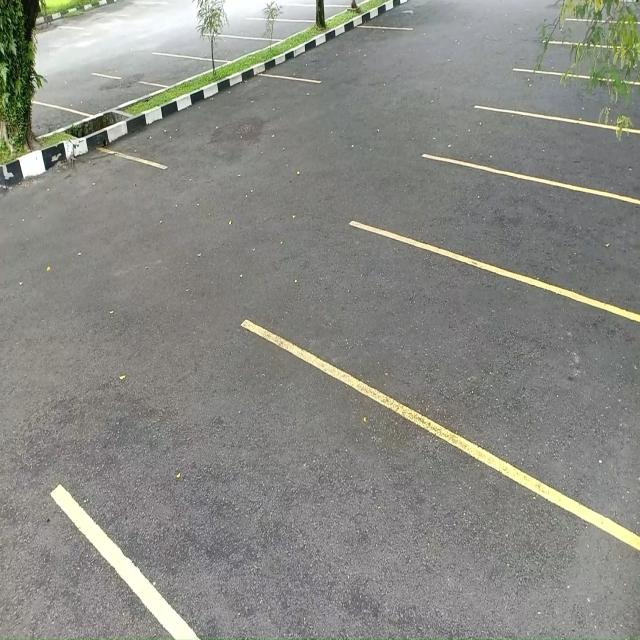empty: (165, 357, 439, 640), (412, 266, 640, 480), (453, 174, 640, 281), (157, 72, 297, 171), (477, 114, 640, 185), (303, 25, 390, 86), (42, 74, 138, 114), (144, 48, 196, 86), (203, 30, 254, 63), (245, 17, 305, 42)
